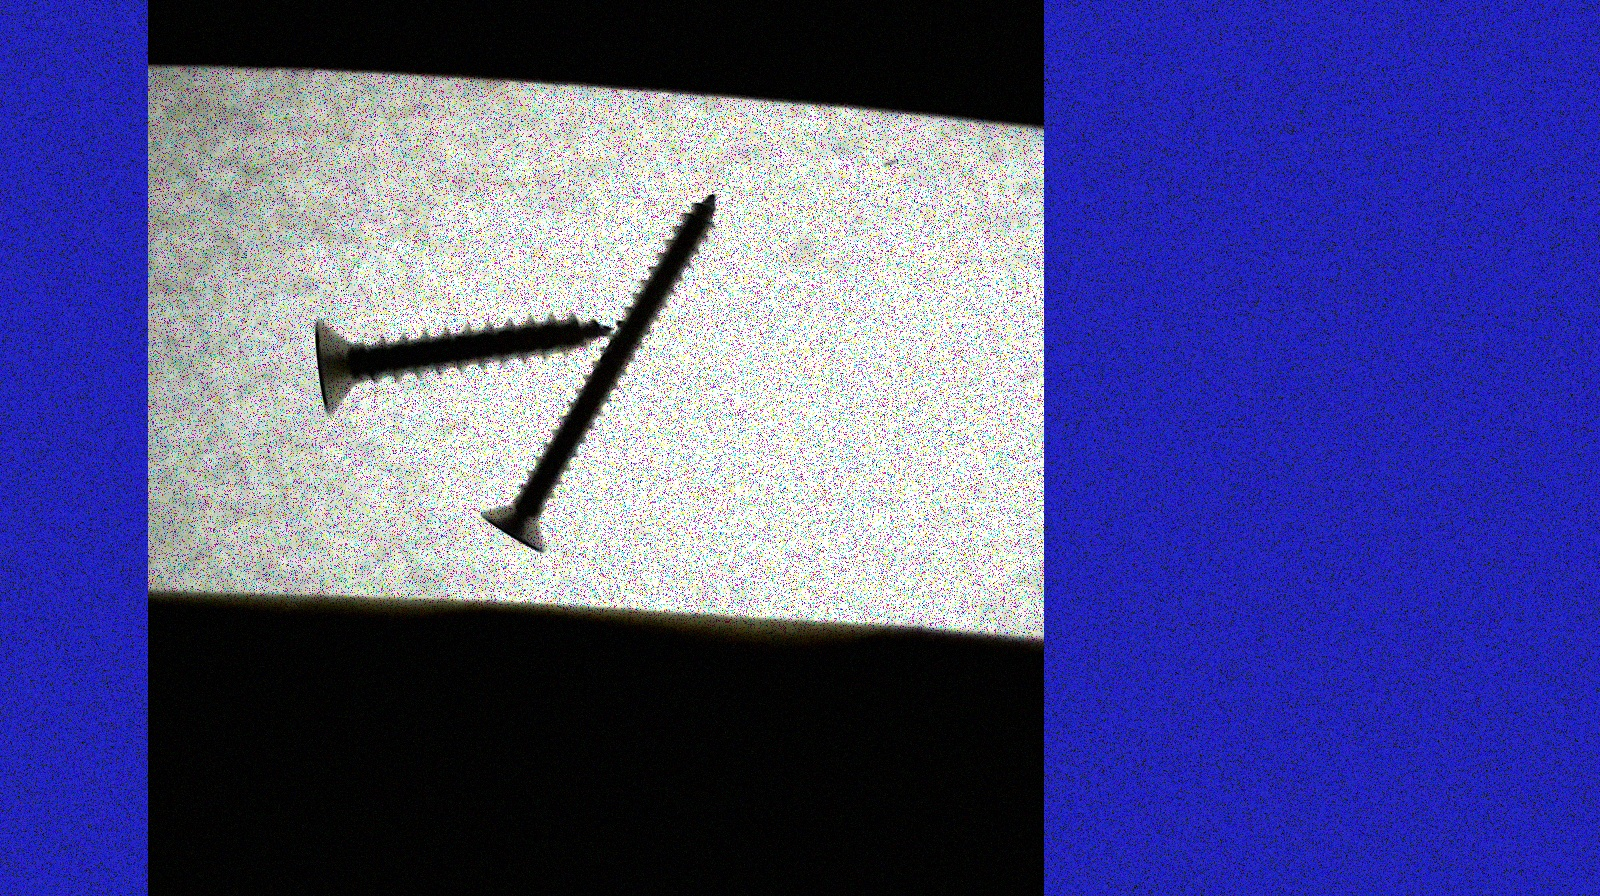S001: (310, 288, 619, 422)
S002: (473, 188, 721, 555)
